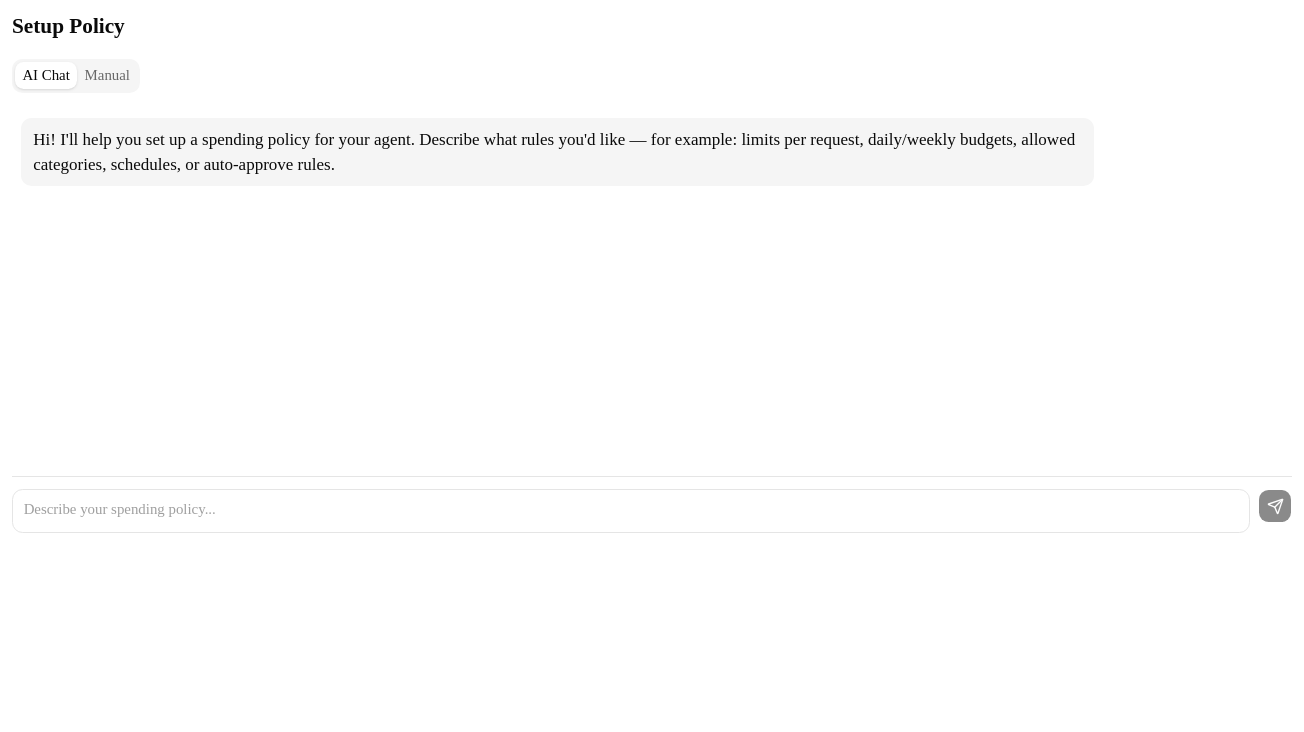
Test: AgentSetupPage › shows Confirm Policy button after first preview
The image size is (1304, 732).
Expected: the text "Confirm Policy" is not shown
Type "Set limit" into the text box with placeholder "Describe your spending policy...".
click(631, 511); type("Set limit")  # box top-left (12, 489), bottom-right (1250, 533)
Then press Enter
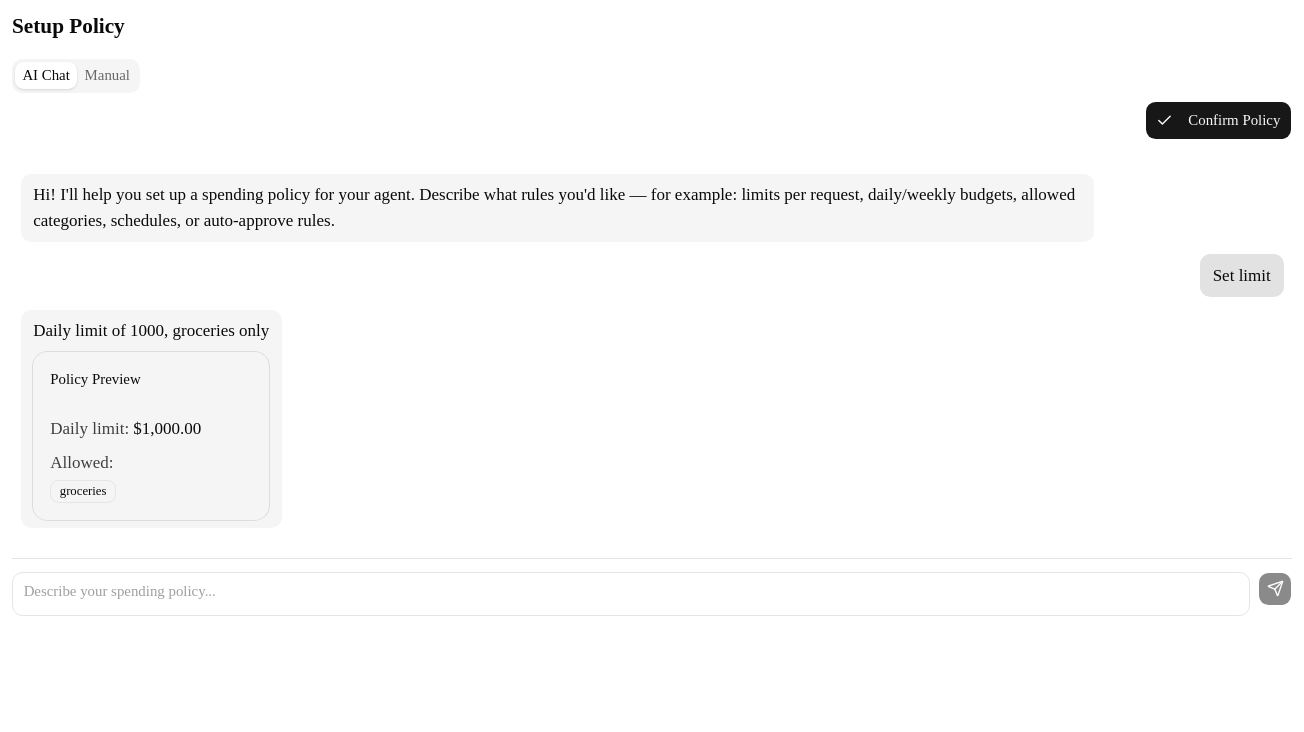
Expected: the button "Confirm Policy" is shown, top-left (1145, 101), bottom-right (1292, 140)
